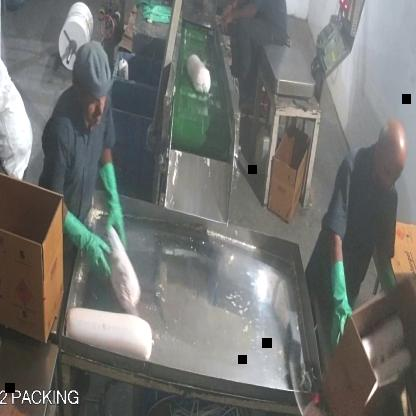glove: (378, 249, 404, 320), (330, 260, 351, 344)
no_glove: (224, 0, 264, 43)
